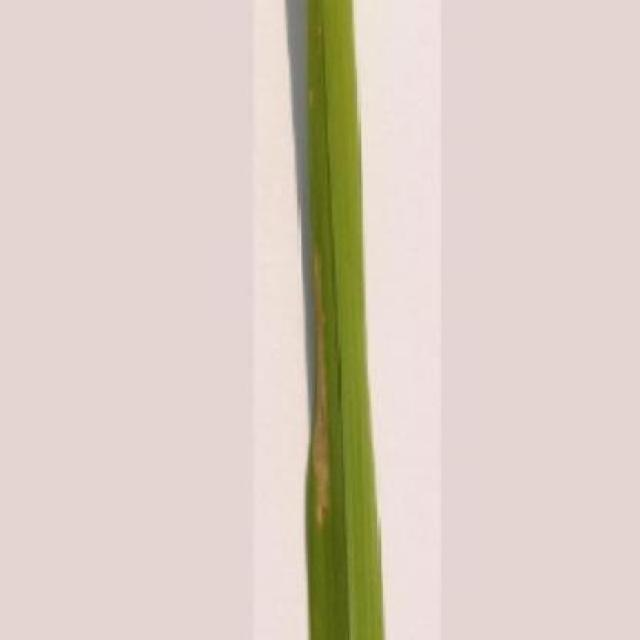Brown_Spot: (299, 0, 386, 640)
